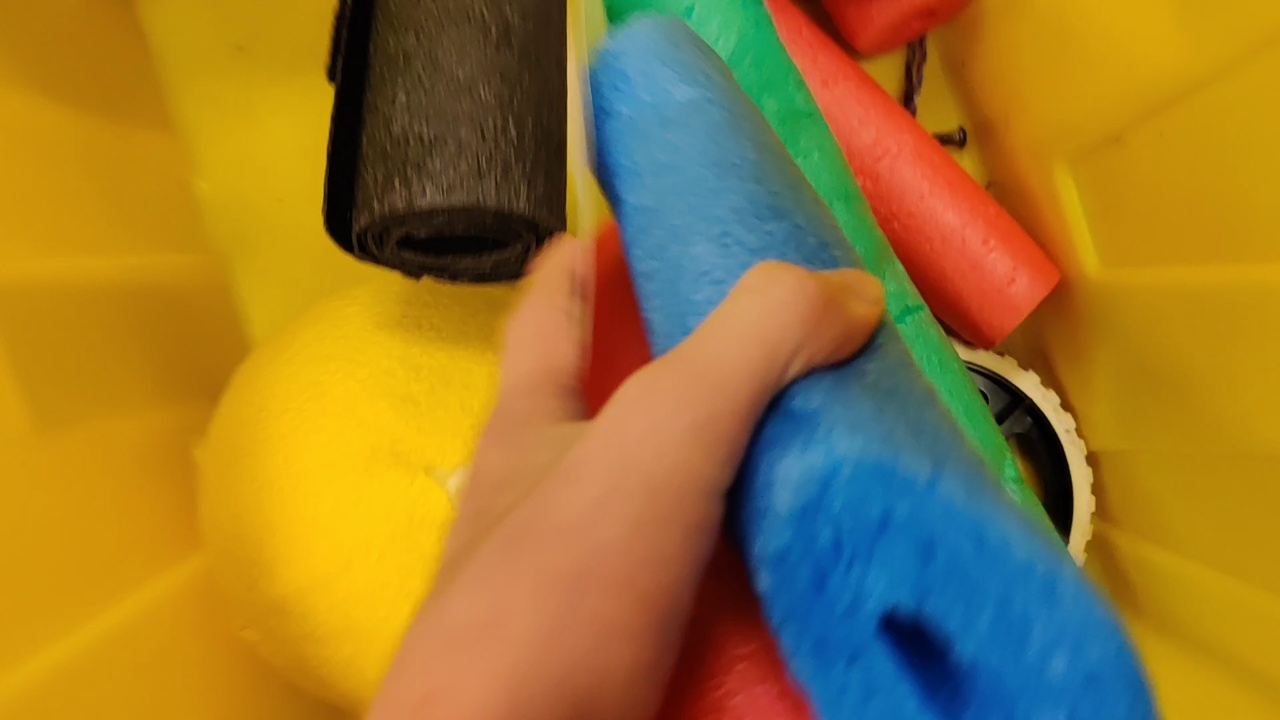Ball: (189, 271, 520, 708)
